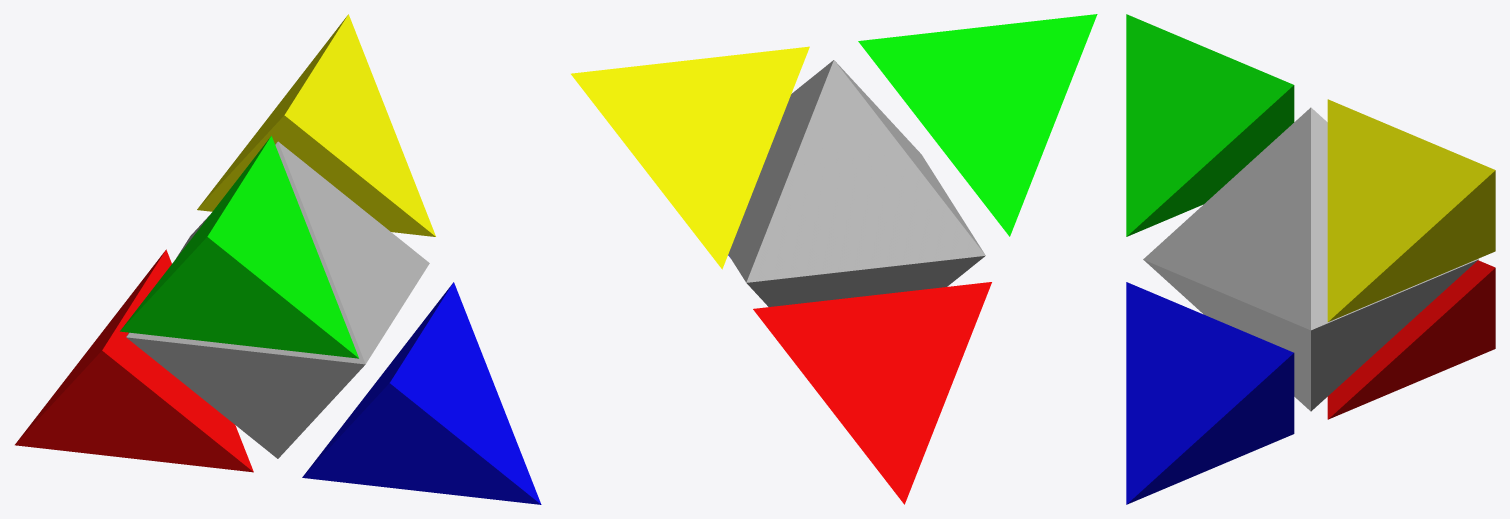
File: tet_oct.glb
3 renders of one model, left to right at view 1: azimuth 30°, elevation 25°; view 2: azimuth 150°, elevation 25°; view 3: azimuth 270°, elevation 25°, orthographic. The views are drawn at different scales.
Size of the model in its own units: 2.2 by 2.2 by 2.2.
